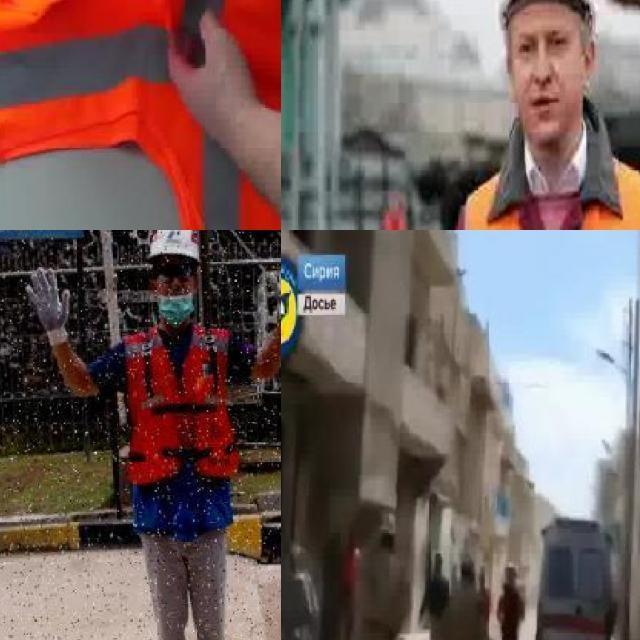apron: (24, 267, 70, 349), (266, 244, 281, 322)
